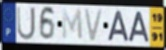6: (38, 5, 57, 43)
A: (106, 10, 131, 43), (128, 10, 151, 44)
M: (61, 8, 84, 42)
U: (16, 5, 36, 42)
V: (82, 7, 105, 43)
